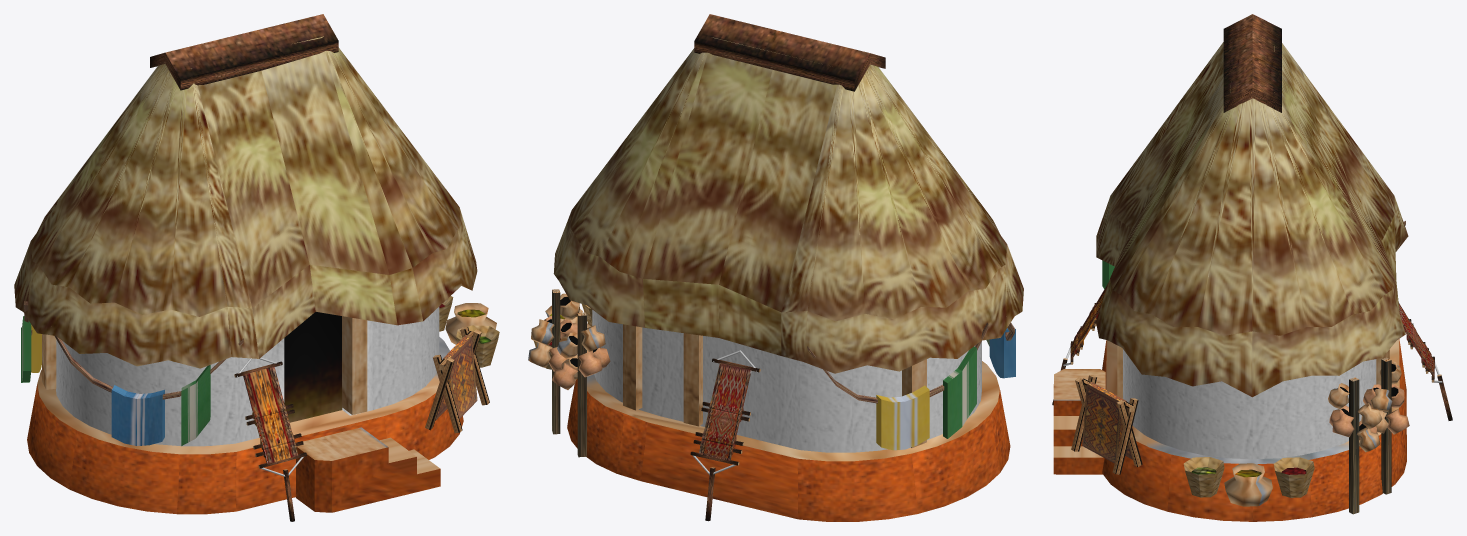
File: house_3.dae
3 views of the same model, side by side, from view 1: azimuth 30°, elevation 25°; view 2: azimuth 150°, elevation 25°; view 3: azimuth 270°, elevation 25° (orthographic). The views are drawn at different scales.
Parts seen in each view (by area): view 1: house_3; view 2: house_3; view 3: house_3.
Part boxes in pixels (left/top/right/bottom): house_3: left=14, top=14, right=499, bottom=521; house_3: left=528, top=14, right=1023, bottom=521; house_3: left=1052, top=14, right=1452, bottom=521.
Bounding box in the file's own units: 12.11 × 9.67 × 10.16.
